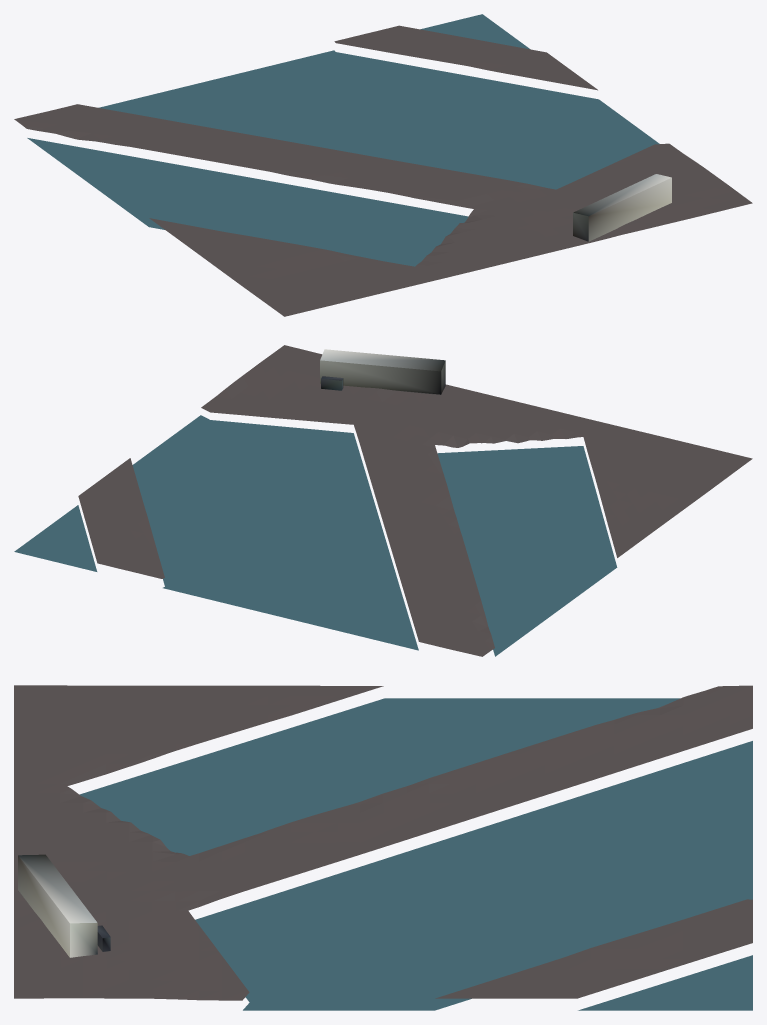
3 views of the same model, one above another, from view 1: azimuth 30°, elevation 25°; view 2: azimuth 150°, elevation 25°; view 3: azimuth 270°, elevation 25° (orthographic). The views are drawn at different scales.
Parts seen in each view (by area): view 1: c_m11_p09; view 2: c_m11_p09; view 3: c_m11_p09.
Part boxes in pixels (x1,y1,x2,y2): c_m11_p09: [14, 14, 752, 316]; c_m11_p09: [14, 345, 752, 656]; c_m11_p09: [14, 685, 752, 1010].
Size of the model in its own units: 128 by 8.97 by 128.
